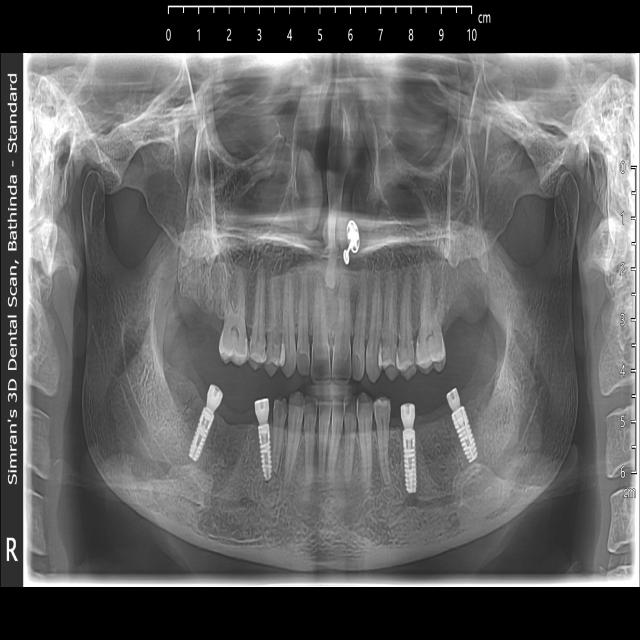Caries: (265, 326, 286, 372)
Implant: (188, 384, 223, 461), (445, 388, 478, 459), (400, 405, 416, 493), (255, 399, 270, 480)
Missing teeth: (162, 372, 202, 441), (420, 406, 457, 478), (183, 279, 220, 339), (442, 293, 477, 351), (219, 402, 250, 458)
